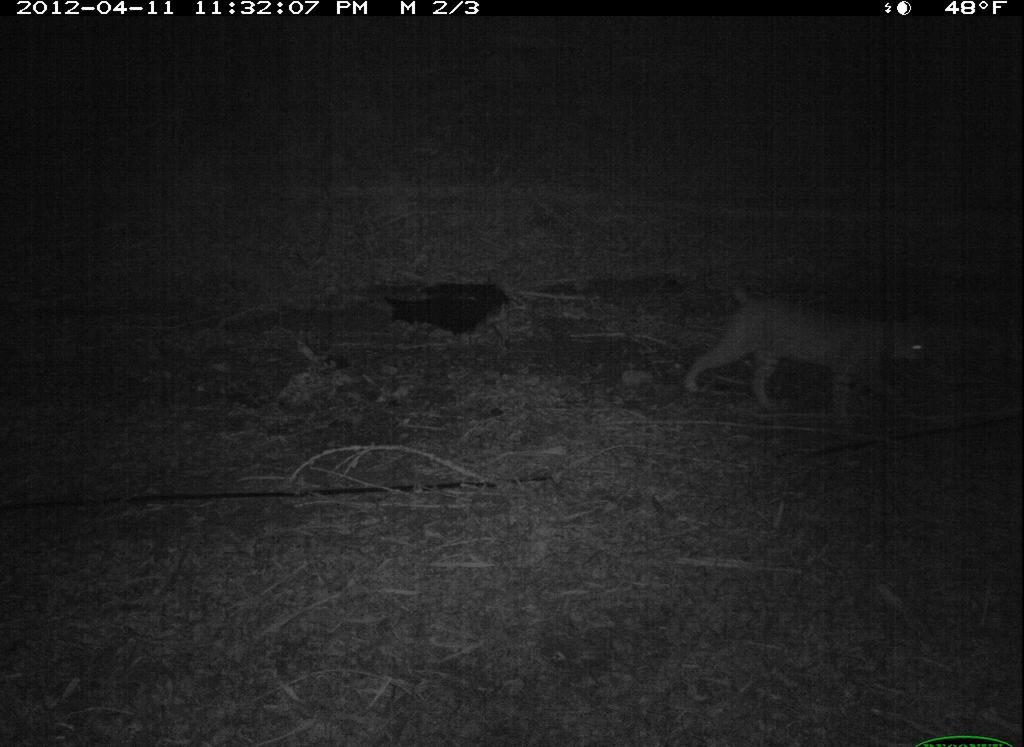bobcat: (666, 267, 957, 443)
